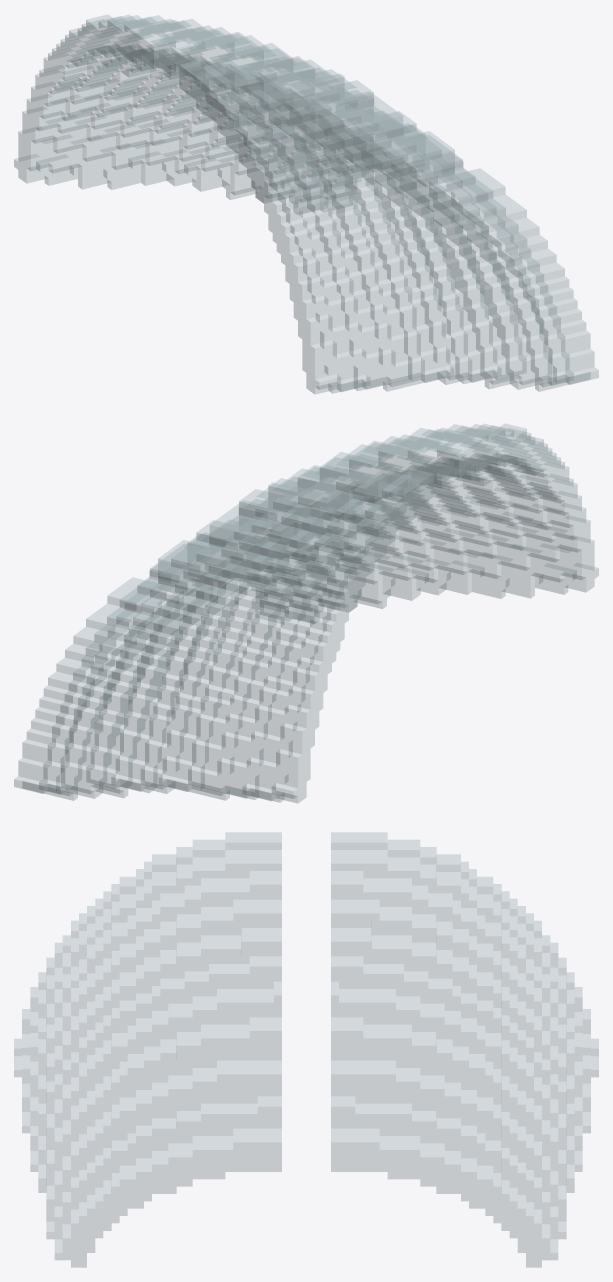
File: military_transport_helicopter_windscreen.glb
3 renders of one model, top to bottom at view 1: azimuth 30°, elevation 25°; view 2: azimuth 150°, elevation 25°; view 3: azimuth 270°, elevation 25°, orthographic. The views are drawn at different scales.
Parts seen in each view (by area): view 1: body:compound; view 2: body:compound; view 3: body:compound.
Part boxes in pixels (x1,y1,x2,y2): body:compound: [14, 14, 598, 394]; body:compound: [14, 423, 598, 803]; body:compound: [14, 832, 598, 1267].
Size of the model in its own units: 1.28 by 1.25 by 2.25.
